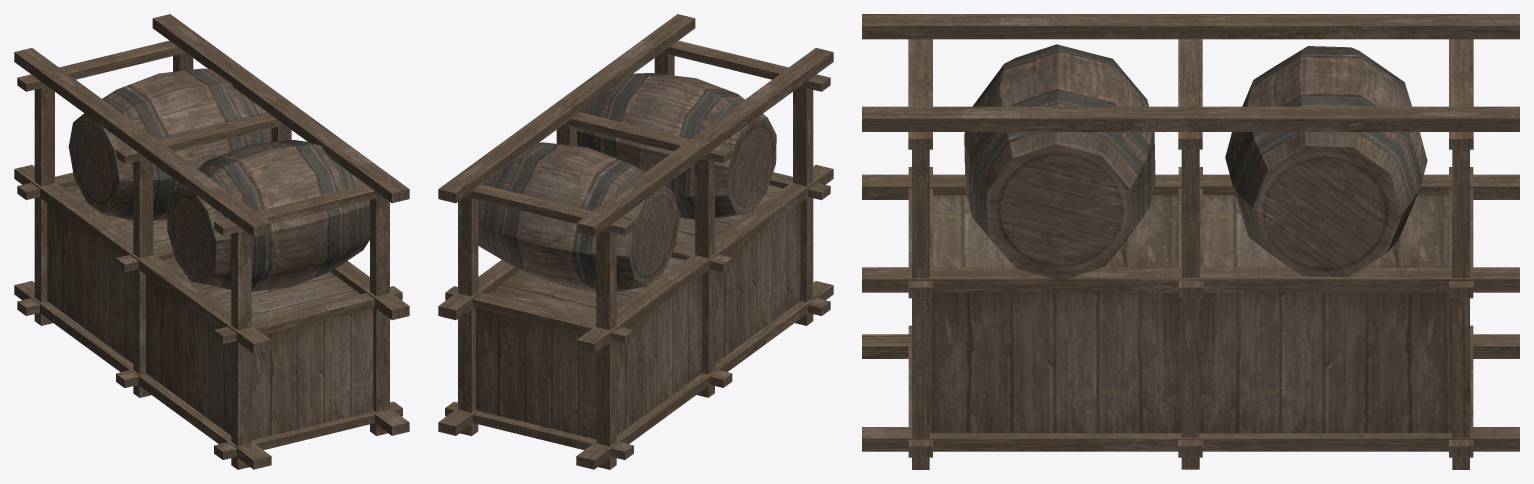
Rendered from bg_lut_lucastle_pubprop02_sm_artree.FBX.
The picture shows the model from 3 angles, left to right: view 1: azimuth 30°, elevation 25°; view 2: azimuth 150°, elevation 25°; view 3: azimuth 270°, elevation 25°; orthographic projection. The views are drawn at different scales.
Parts seen in each view (by area): view 1: bg_lut_lucastle_pubprop02_sm_artree; view 2: bg_lut_lucastle_pubprop02_sm_artree; view 3: bg_lut_lucastle_pubprop02_sm_artree.
Part boxes in pixels (box(x1,y1,x2,y2)): bg_lut_lucastle_pubprop02_sm_artree: box(14, 14, 409, 469); bg_lut_lucastle_pubprop02_sm_artree: box(438, 14, 833, 469); bg_lut_lucastle_pubprop02_sm_artree: box(862, 14, 1519, 469).
Size of the model in its own units: 91.96 by 127 by 212.
